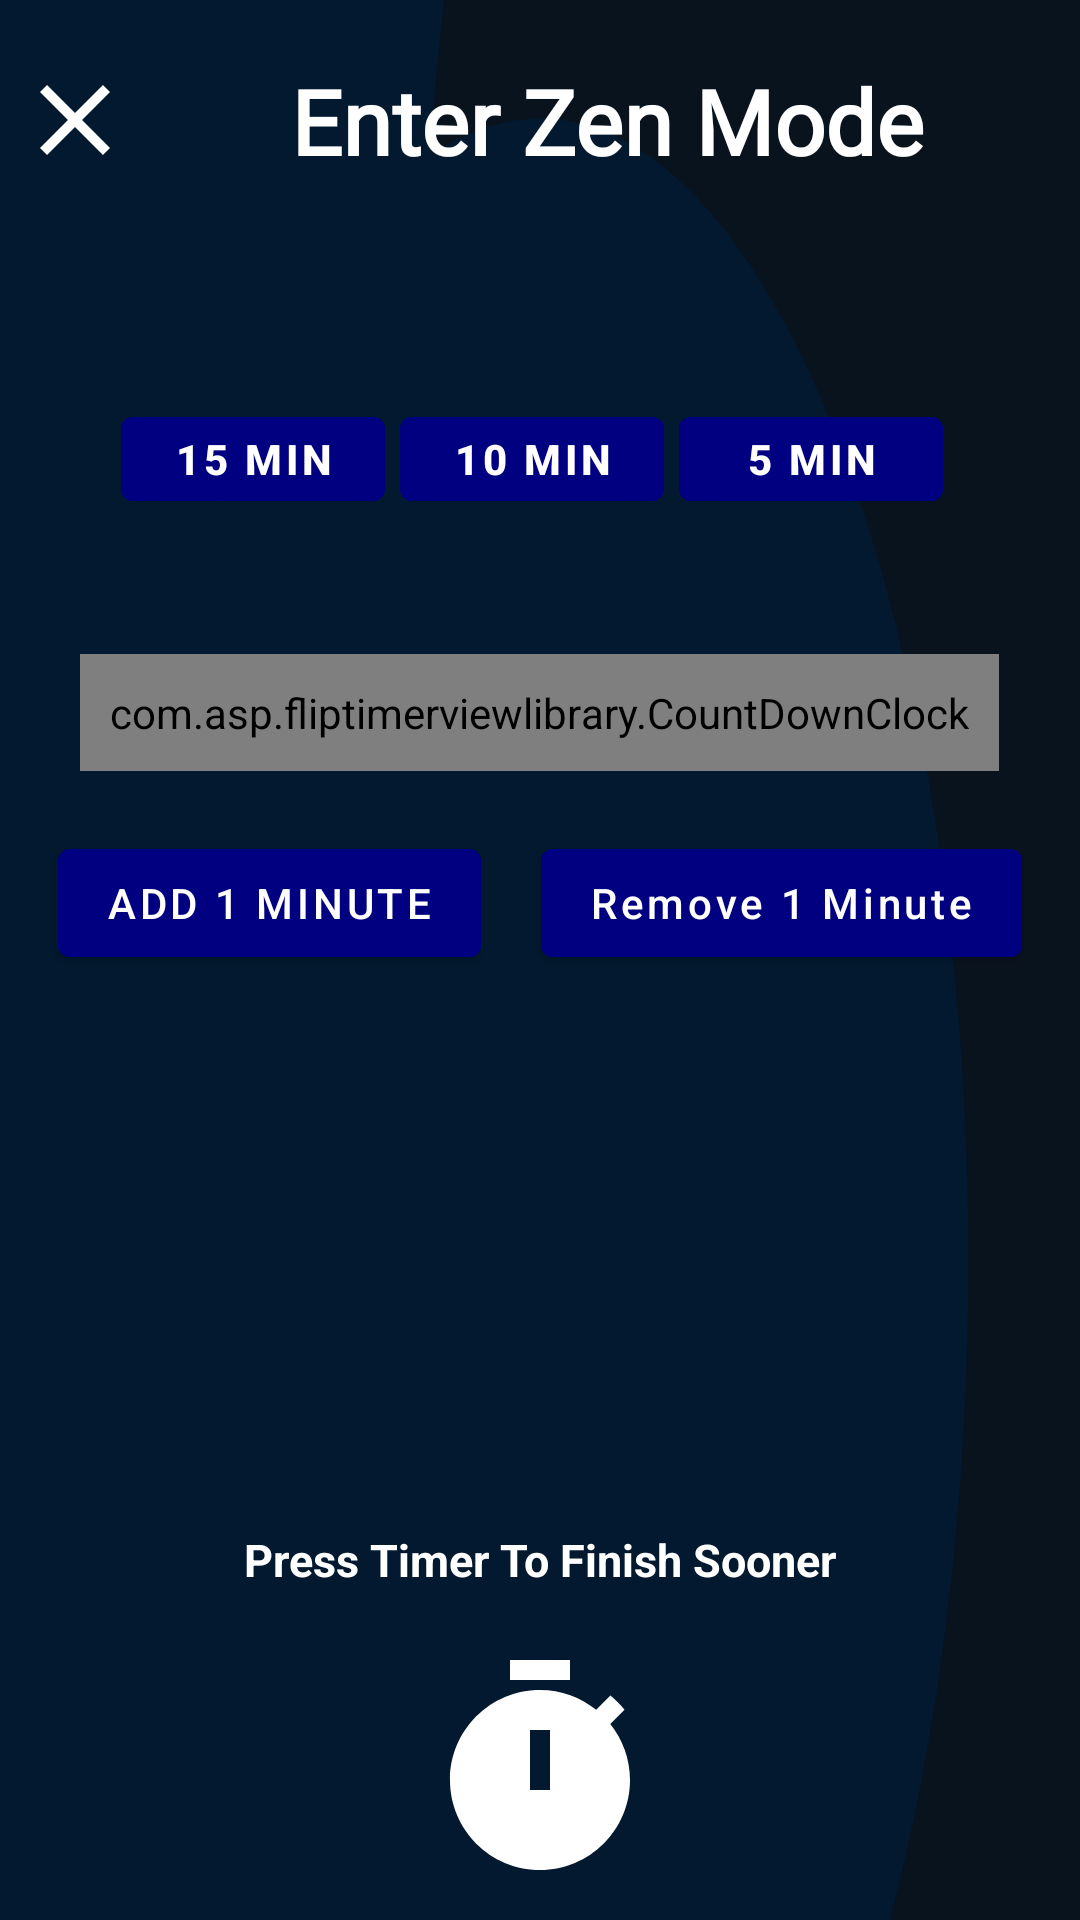

Where to tap for icons on this 1080px×1920px app screen, as point (x, y):
close: point (75, 120)
